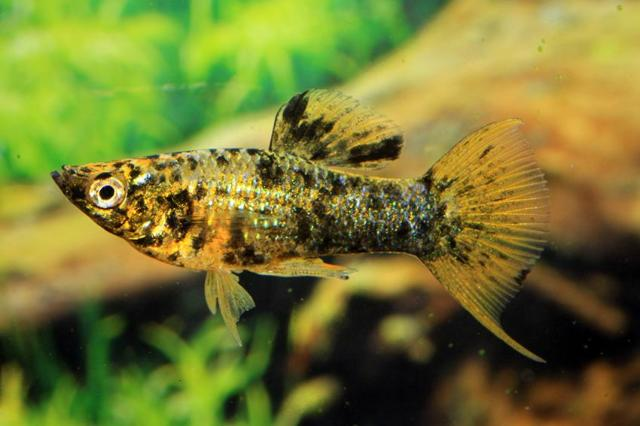Mulut: (44, 148, 98, 227)
Sirip Anal: (246, 249, 360, 294)
Sirip Dada: (175, 194, 279, 246)
Sirip Ekor: (426, 107, 562, 368)
Sirip Perut: (198, 262, 266, 346)
Sirip Punggung: (253, 83, 412, 179)
